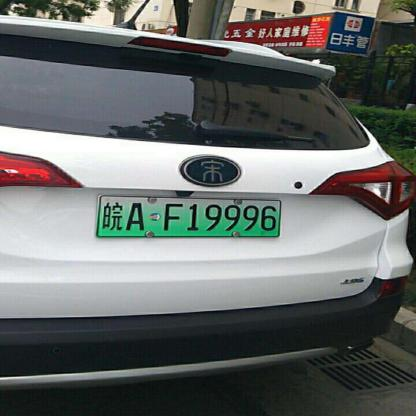lp: (98, 195, 279, 235)
